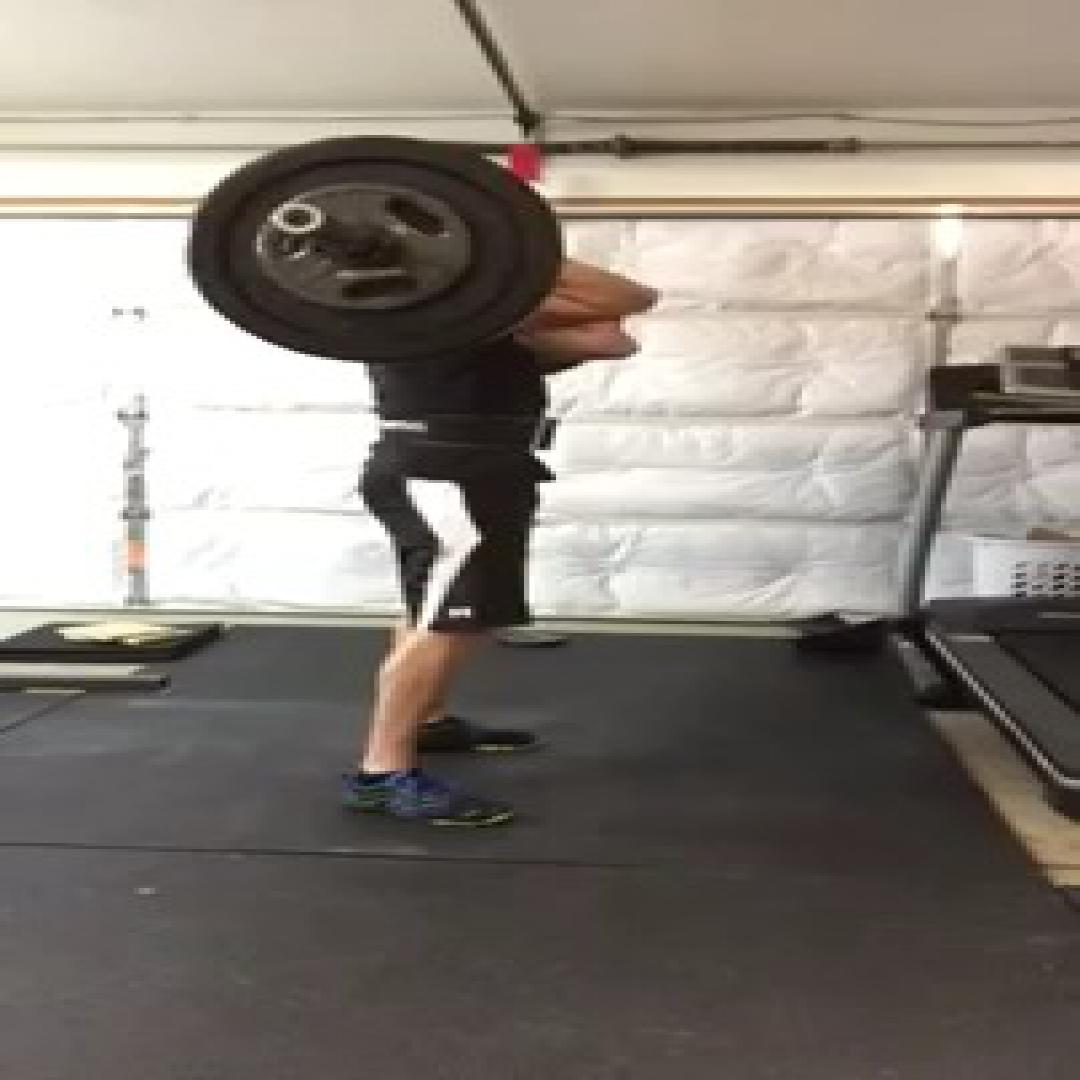Bar: (266, 200, 330, 236)
Barbell: (187, 135, 562, 363)
